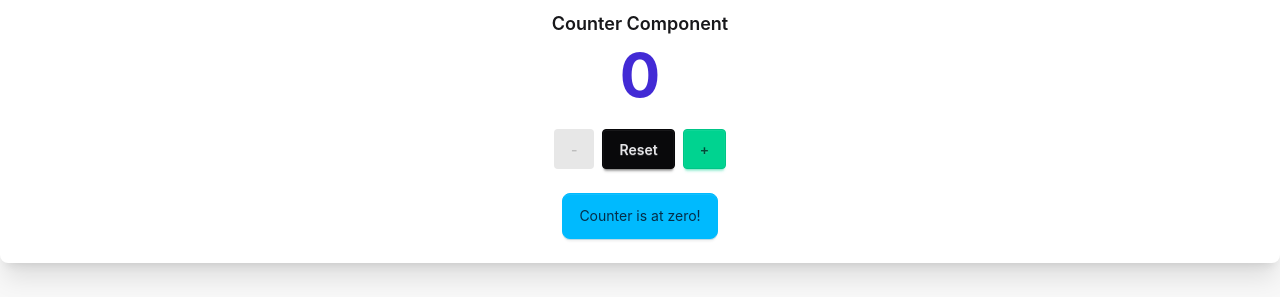
Test case: Counter Component Functionality › increments counter when + button is clicked
The image size is (1280, 297).
Click the button "+".
click(704, 149)  # box [683,129,726,169]
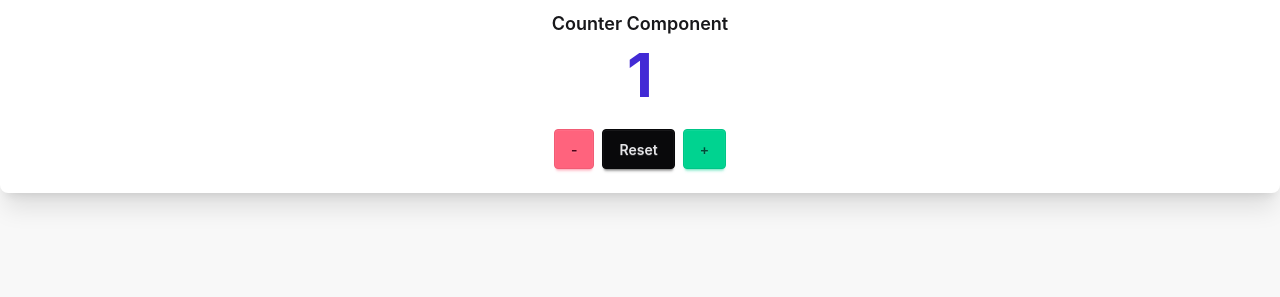
Click the button "+".
click(704, 149)  # box [683,129,726,169]
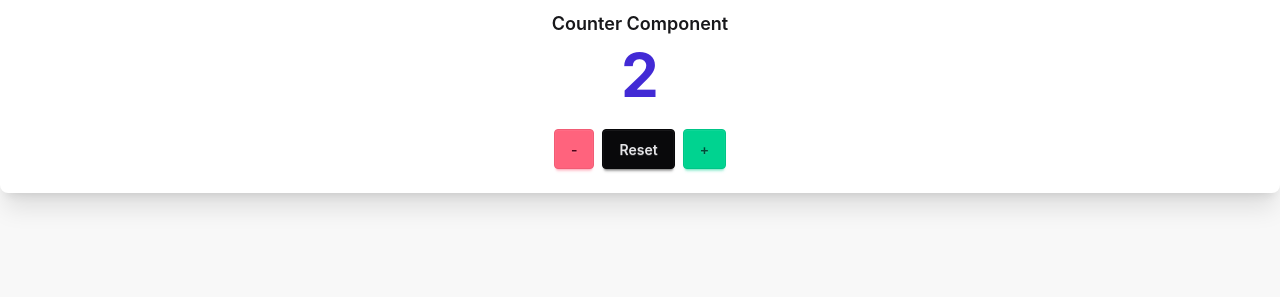
Click the button "+".
click(704, 149)  # box [683,129,726,169]
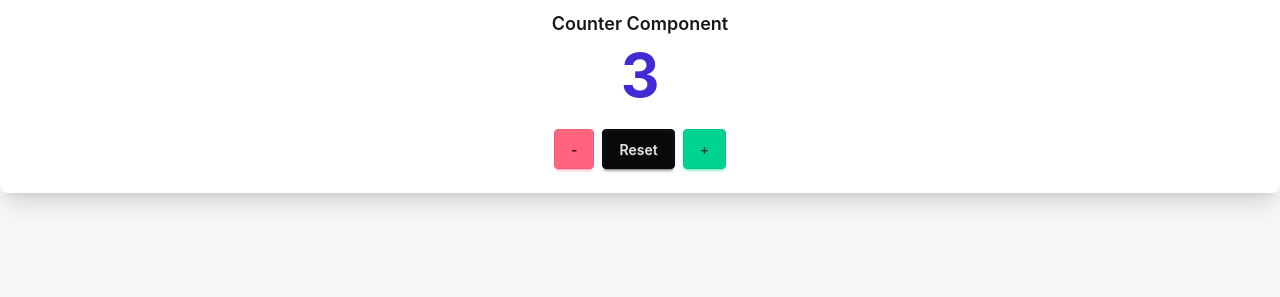
Click the button "+".
click(704, 149)  # box [683,129,726,169]
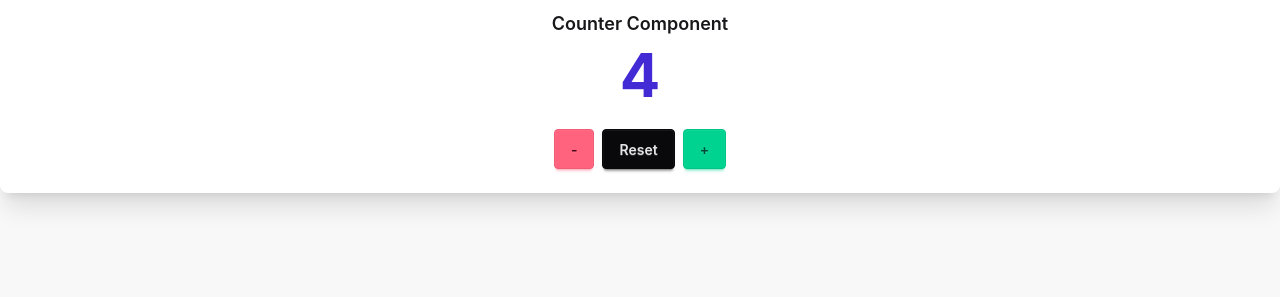
Click the button "+".
click(704, 149)  # box [683,129,726,169]
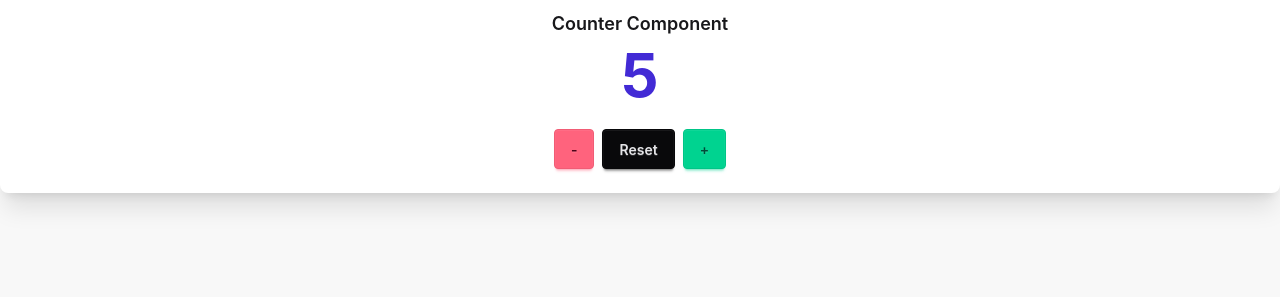
Expected: the text "5" is shown, [621,45,659,105]
